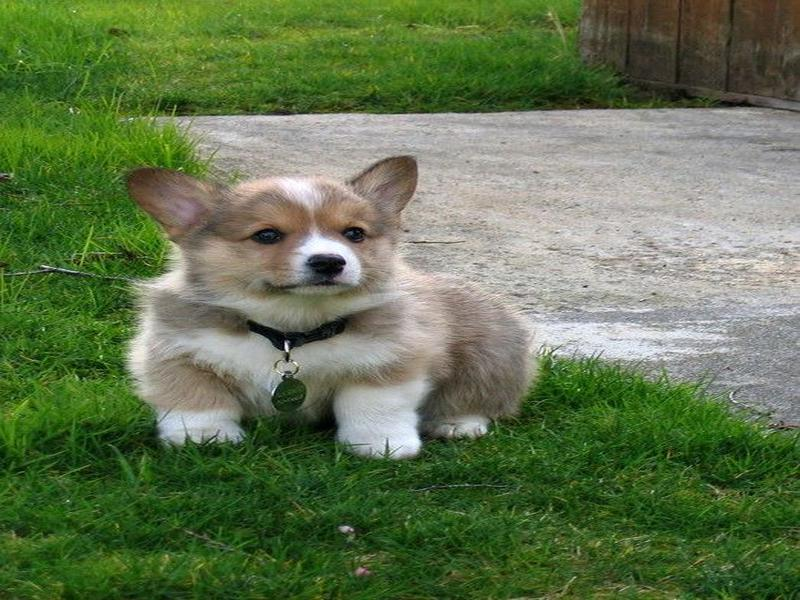corgi: (123, 155, 421, 304)
